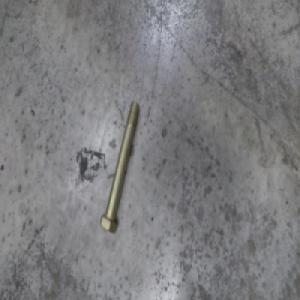Bolt: (99, 103, 139, 233)
